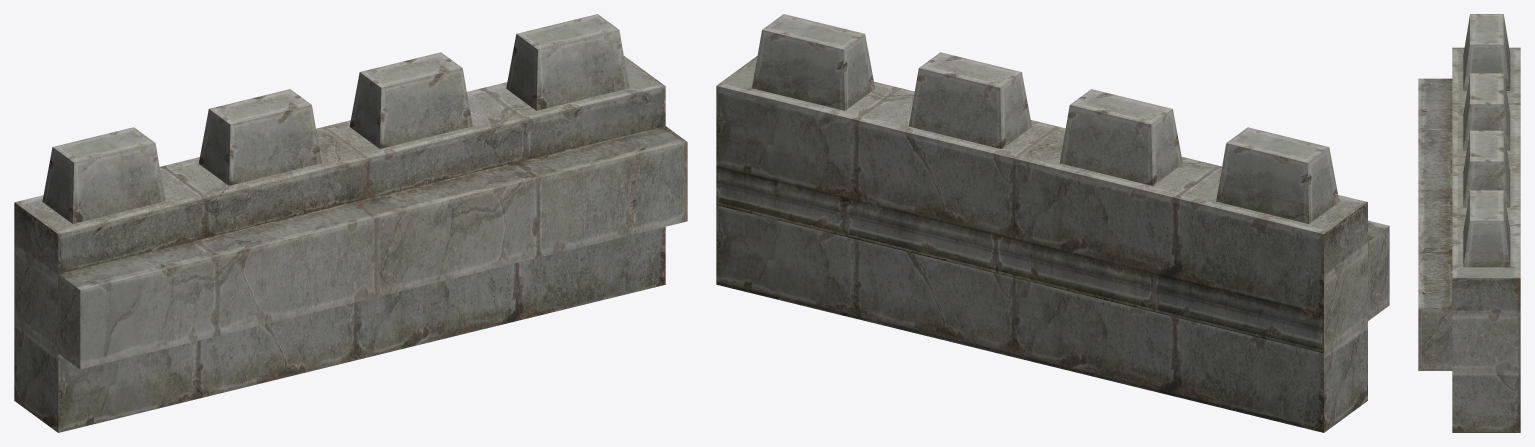
Rendered from bg_lut_lucastle_floorfence03_sm_lkj.FBX.
3 views of the same model, side by side, from view 1: azimuth 30°, elevation 25°; view 2: azimuth 150°, elevation 25°; view 3: azimuth 270°, elevation 25° (orthographic). The views are drawn at different scales.
Visible parts, largest first — view 1: bg_lut_lucastle_floorfence03_sm_lkj; view 2: bg_lut_lucastle_floorfence03_sm_lkj; view 3: bg_lut_lucastle_floorfence03_sm_lkj.
Part boxes in pixels (left/top/right/bottom): bg_lut_lucastle_floorfence03_sm_lkj: left=14, top=14, right=687, bottom=432; bg_lut_lucastle_floorfence03_sm_lkj: left=716, top=14, right=1389, bottom=432; bg_lut_lucastle_floorfence03_sm_lkj: left=1418, top=14, right=1520, bottom=432.
Bounding box in the file's own units: 256 × 103 × 48.
